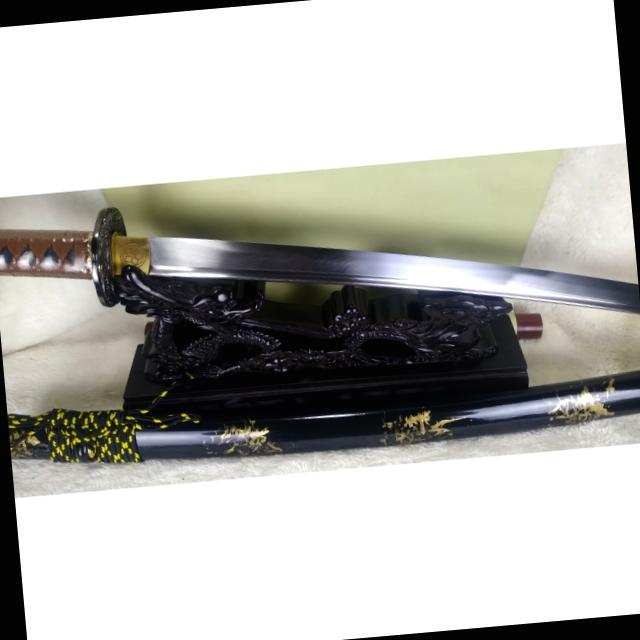long sword: (0, 162, 640, 371)
